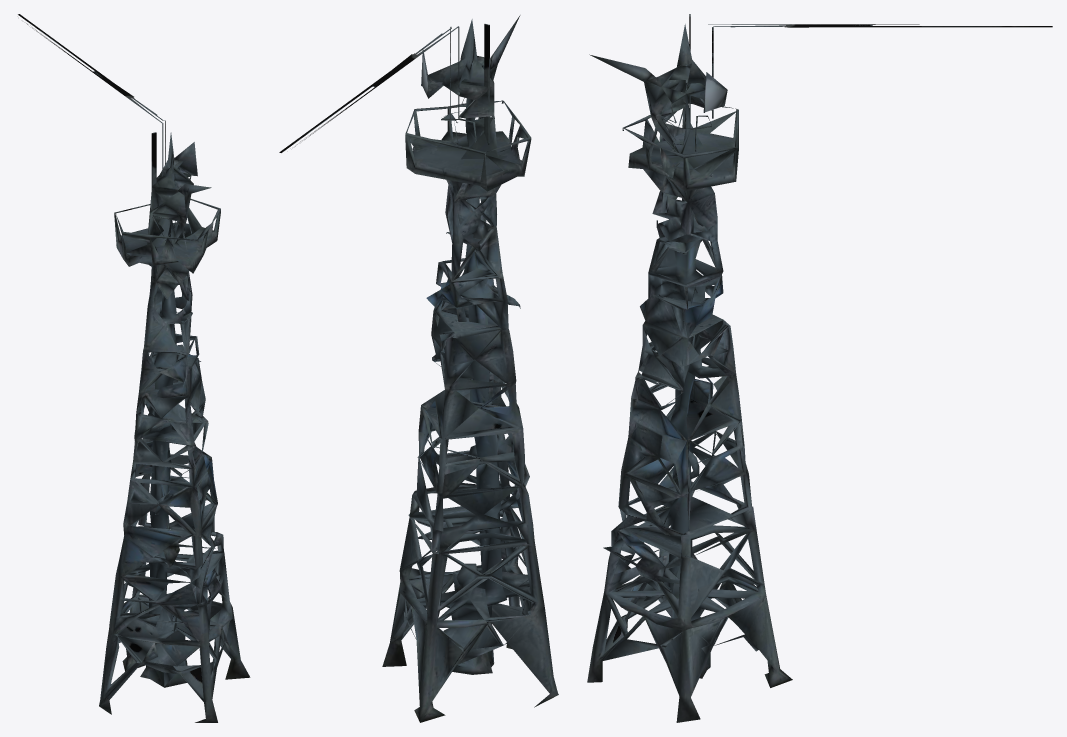
Rendered from antenna_mast.glb.
3 views of the same model, side by side, from view 1: azimuth 30°, elevation 25°; view 2: azimuth 150°, elevation 25°; view 3: azimuth 270°, elevation 25° (orthographic). The views are drawn at different scales.
Visible parts, largest first — view 1: tripo_node_597f628c-e791-48df-97b5-32c4b813254a; view 2: tripo_node_597f628c-e791-48df-97b5-32c4b813254a; view 3: tripo_node_597f628c-e791-48df-97b5-32c4b813254a.
Boxes of the visible parts, x1=… form: tripo_node_597f628c-e791-48df-97b5-32c4b813254a: x1=18, y1=14, x2=250, y2=722; tripo_node_597f628c-e791-48df-97b5-32c4b813254a: x1=279, y1=15, x2=558, y2=722; tripo_node_597f628c-e791-48df-97b5-32c4b813254a: x1=587, y1=14, x2=1052, y2=722.
Size of the model in its own units: 0.2759 by 1 by 0.6419.
Materials: 1 (1 with a texture image).
